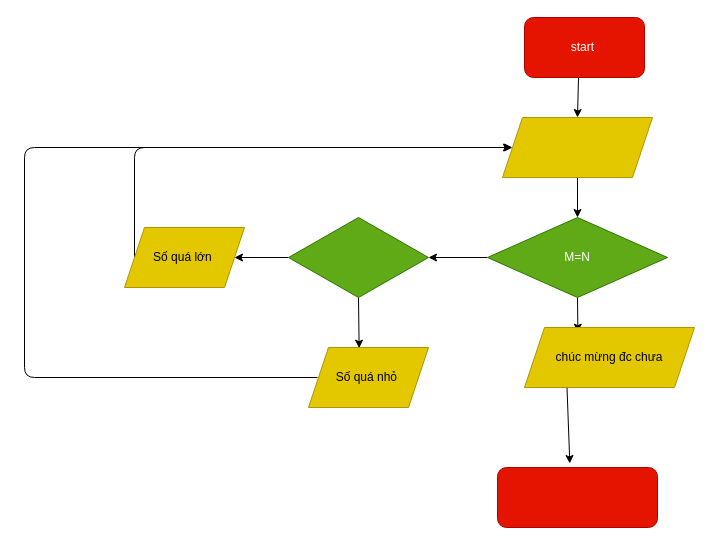
Image size: 712x545. Some labels were removed from this diagram. Here are the shapes that lost their labels. From the top down, the centre of each, then its label:
At point (577, 147): "Input M".
At point (358, 257): "M>N".
At point (577, 497): "End".
